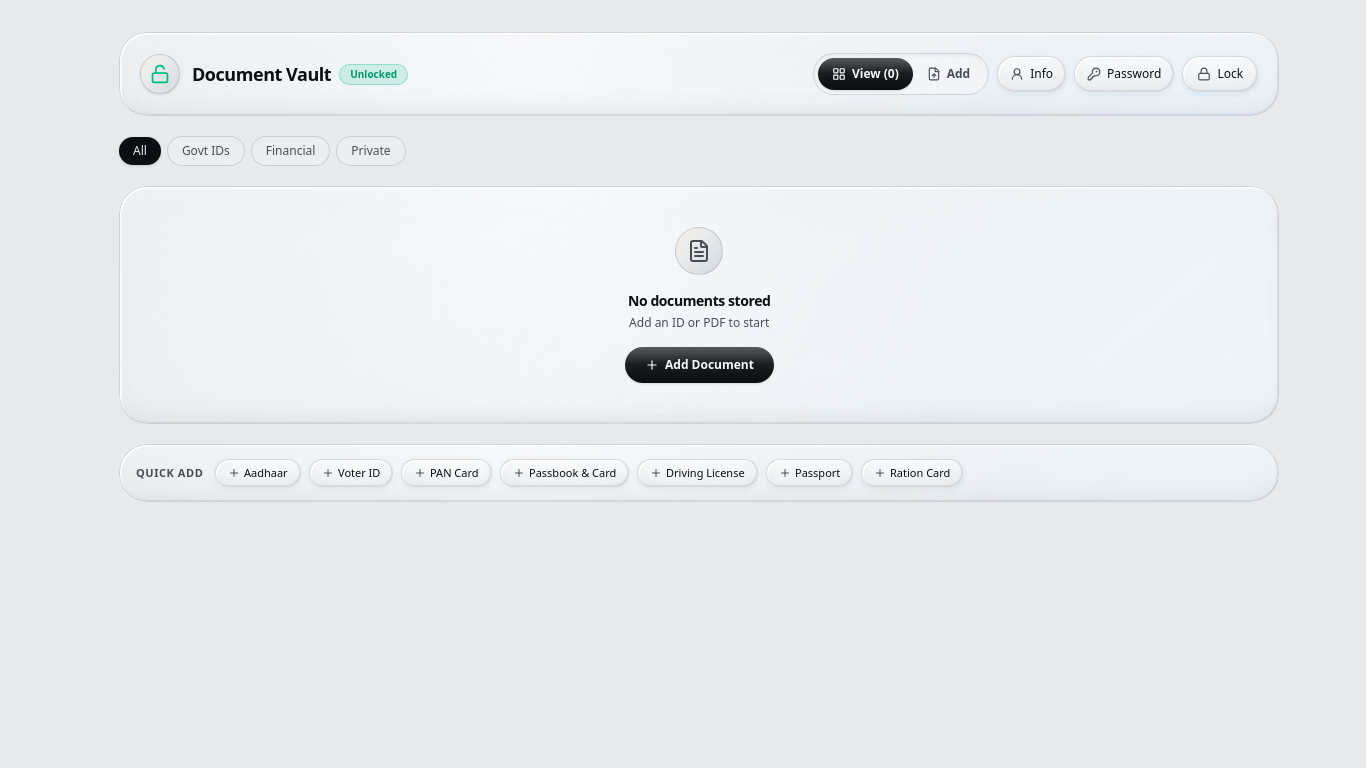
Test case: Vault Page (/app/page-4) › stays unlocked across window blur/visibility events and allows uploading & viewing a PDF without locking
The width and height of the screenshot is (1366, 768).
Earlier steps of the test are not shown.
Later steps or results of the test are not shown.
Expected: the text with test id "vault-lock-status-badge" reads "Unlocked", [350, 66, 397, 80]
Click the button with test id "add-private-doc-btn" at (948, 74), box [913, 58, 984, 90]
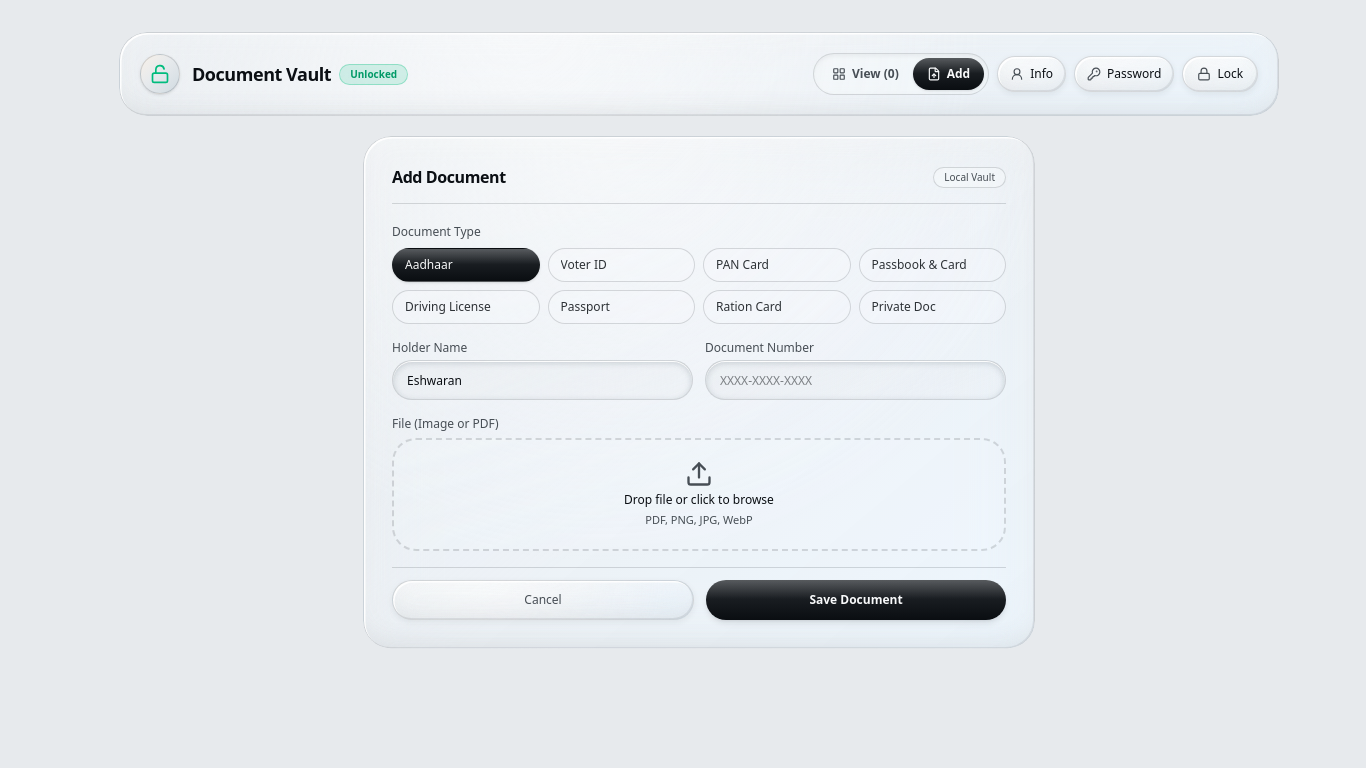
Type "145523655236" into the field with placeholder "XXXX-XXXX-XXXX" at (856, 380), box [705, 360, 1006, 400]
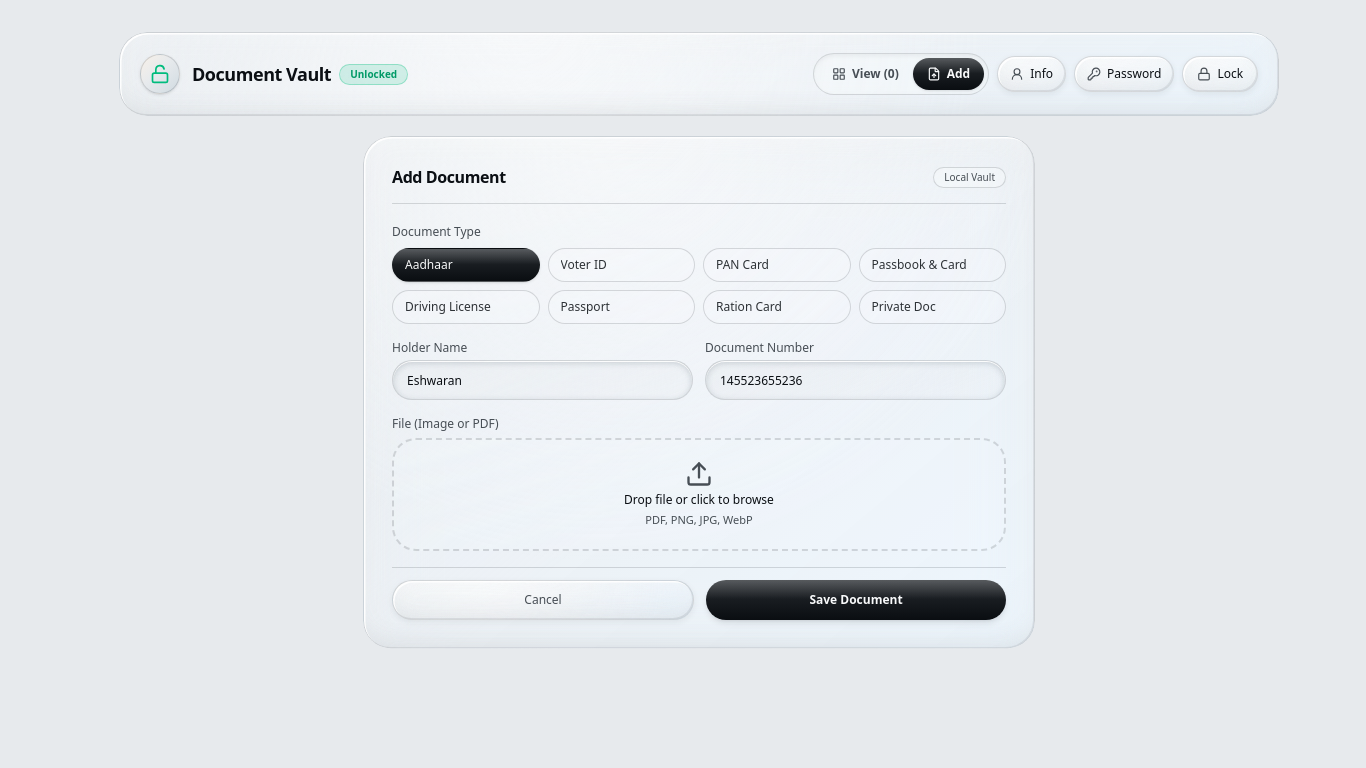
Expected: the element that starts with "File (Image or PDF)" is shown, [392, 416, 1006, 550]
